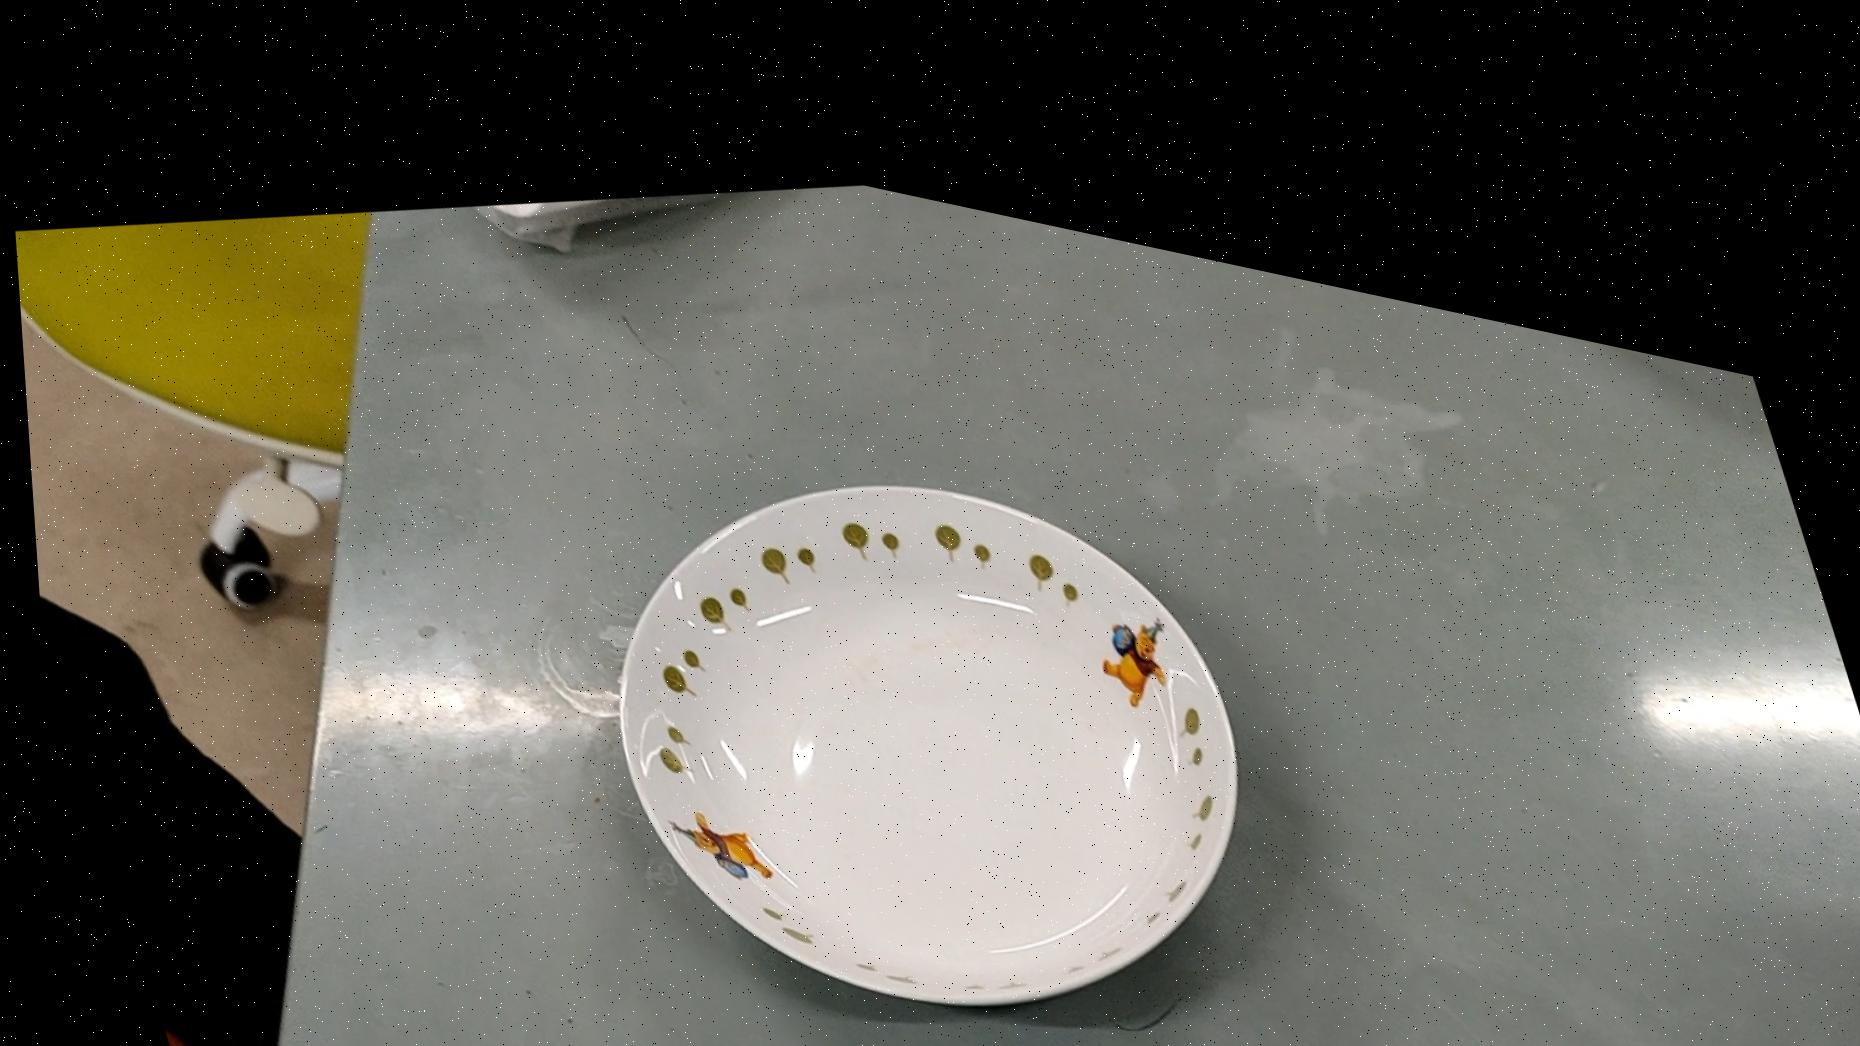plate: (533, 313, 1318, 1046)
